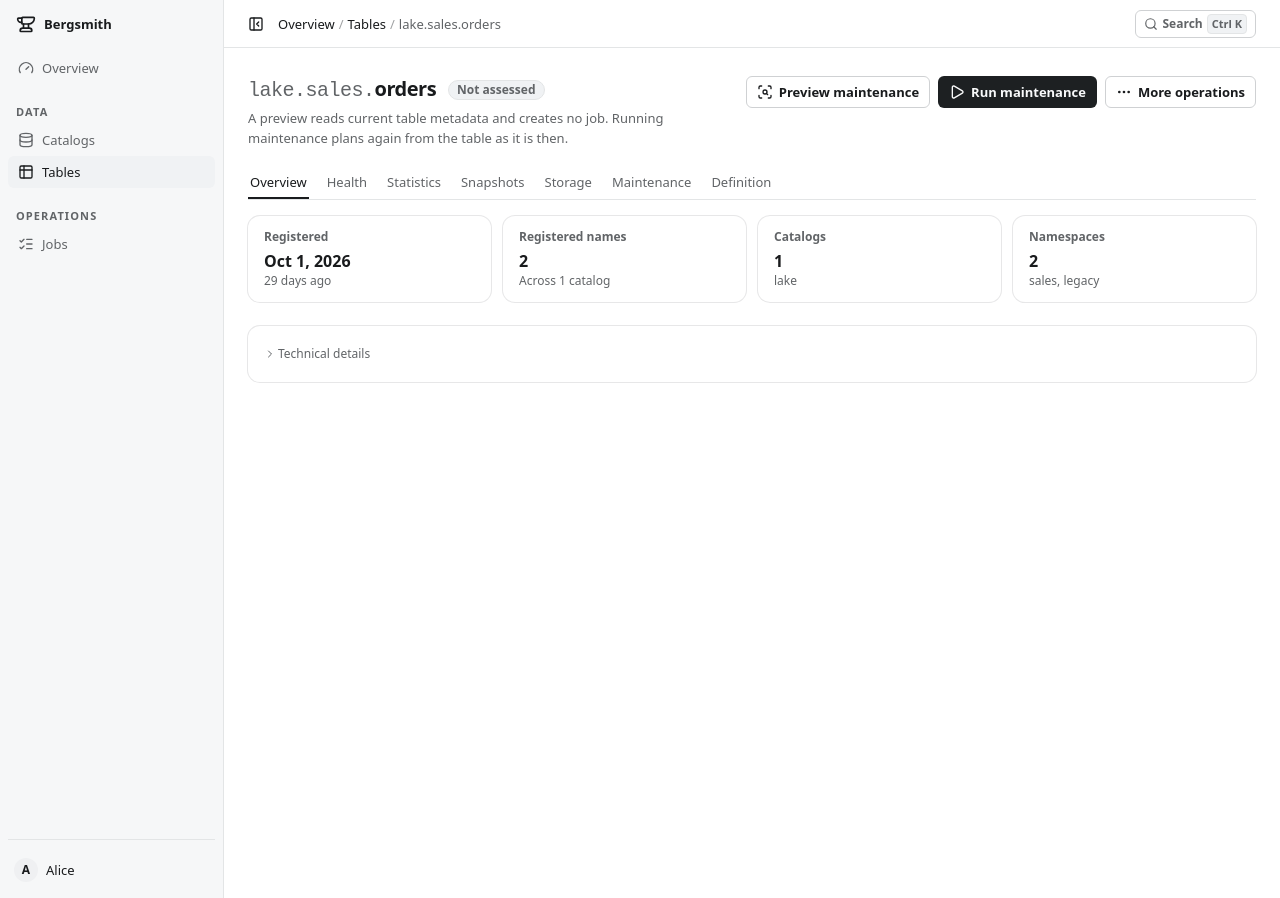
Scenario: browsing › opens a table's definition tab and keeps it in the URL
Click the tab "Definition" at (741,182), box 709,164 -> 773,200
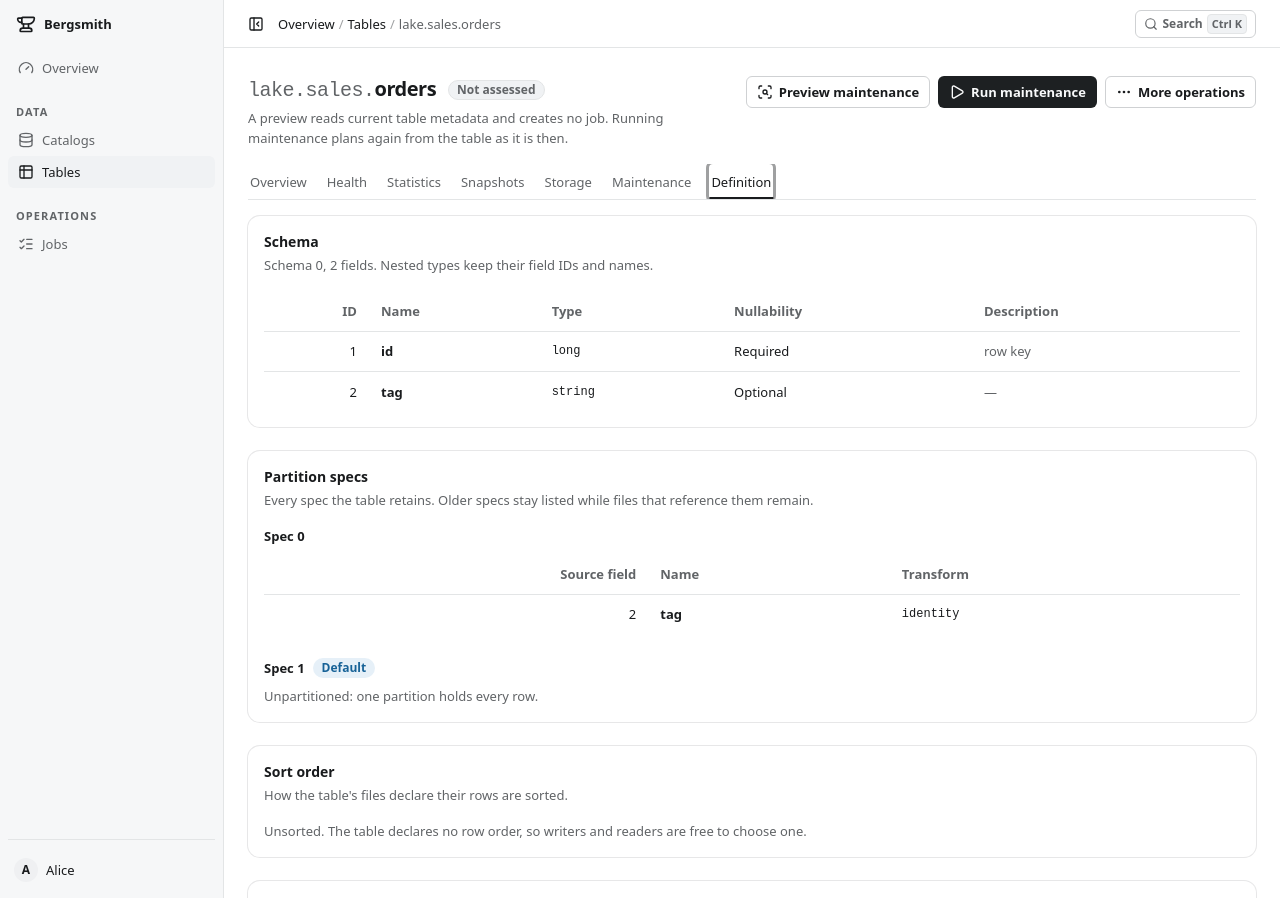
Expected: the heading "Schema" is shown, 264,232 -> 319,251
Expected: the text "row key" is shown, 972,331 -> 1240,372
Expected: the text "identity" is shown, 890,594 -> 1240,634
